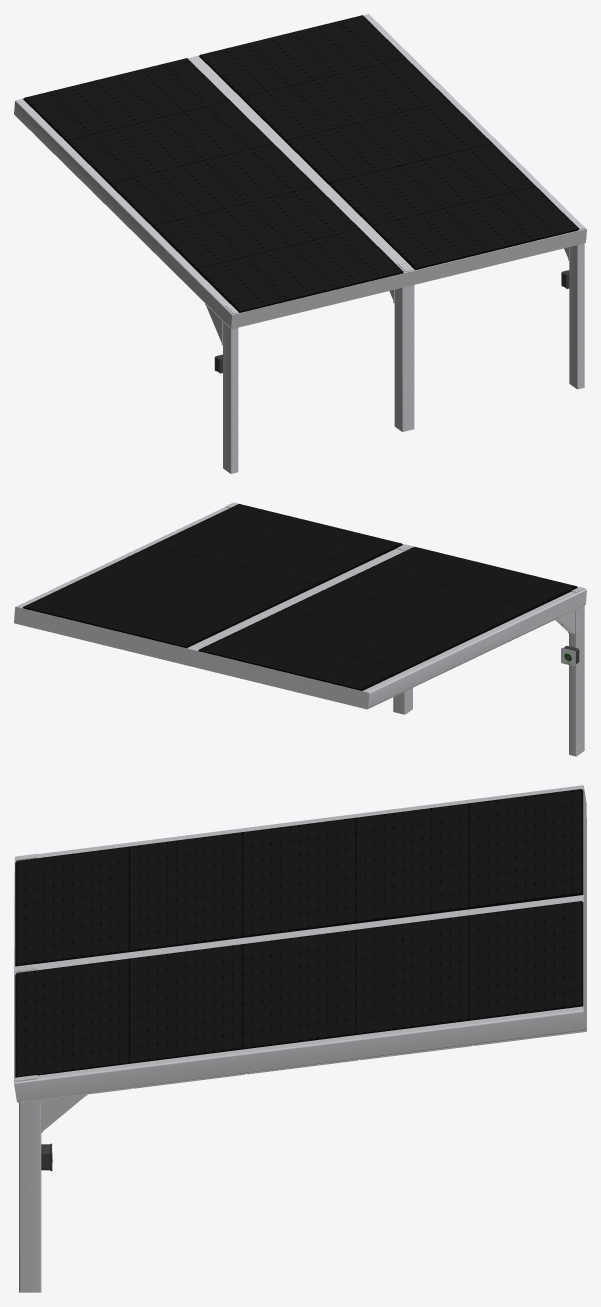
File: Cap_2.glb
3 renders of one model, top to bottom at view 1: azimuth 30°, elevation 25°; view 2: azimuth 150°, elevation 25°; view 3: azimuth 270°, elevation 25°, orthographic. The views are drawn at different scales.
Parts seen in each view (by area): view 1: Left.083, Middle.041, Right.010; view 2: Left.083, Middle.041, Right.010; view 3: Middle.041, Left.083, Right.010.
Boxes of the visible parts, x1=… form: Left.083: x1=14, y1=57, x2=410, y2=473; Middle.041: x1=188, y1=14, x2=586, y2=431; Right.010: x1=364, y1=14, x2=585, y2=389; Left.083: x1=190, y1=546, x2=586, y2=756; Middle.041: x1=14, y1=504, x2=413, y2=714; Right.010: x1=17, y1=502, x2=238, y2=608; Middle.041: x1=14, y1=895, x2=586, y2=1102; Left.083: x1=14, y1=785, x2=586, y2=970; Right.010: x1=14, y1=1006, x2=585, y2=1292.
Size of the model in its own units: 5.42 by 3.11 by 5.7.
5 materials, 5 textured.
